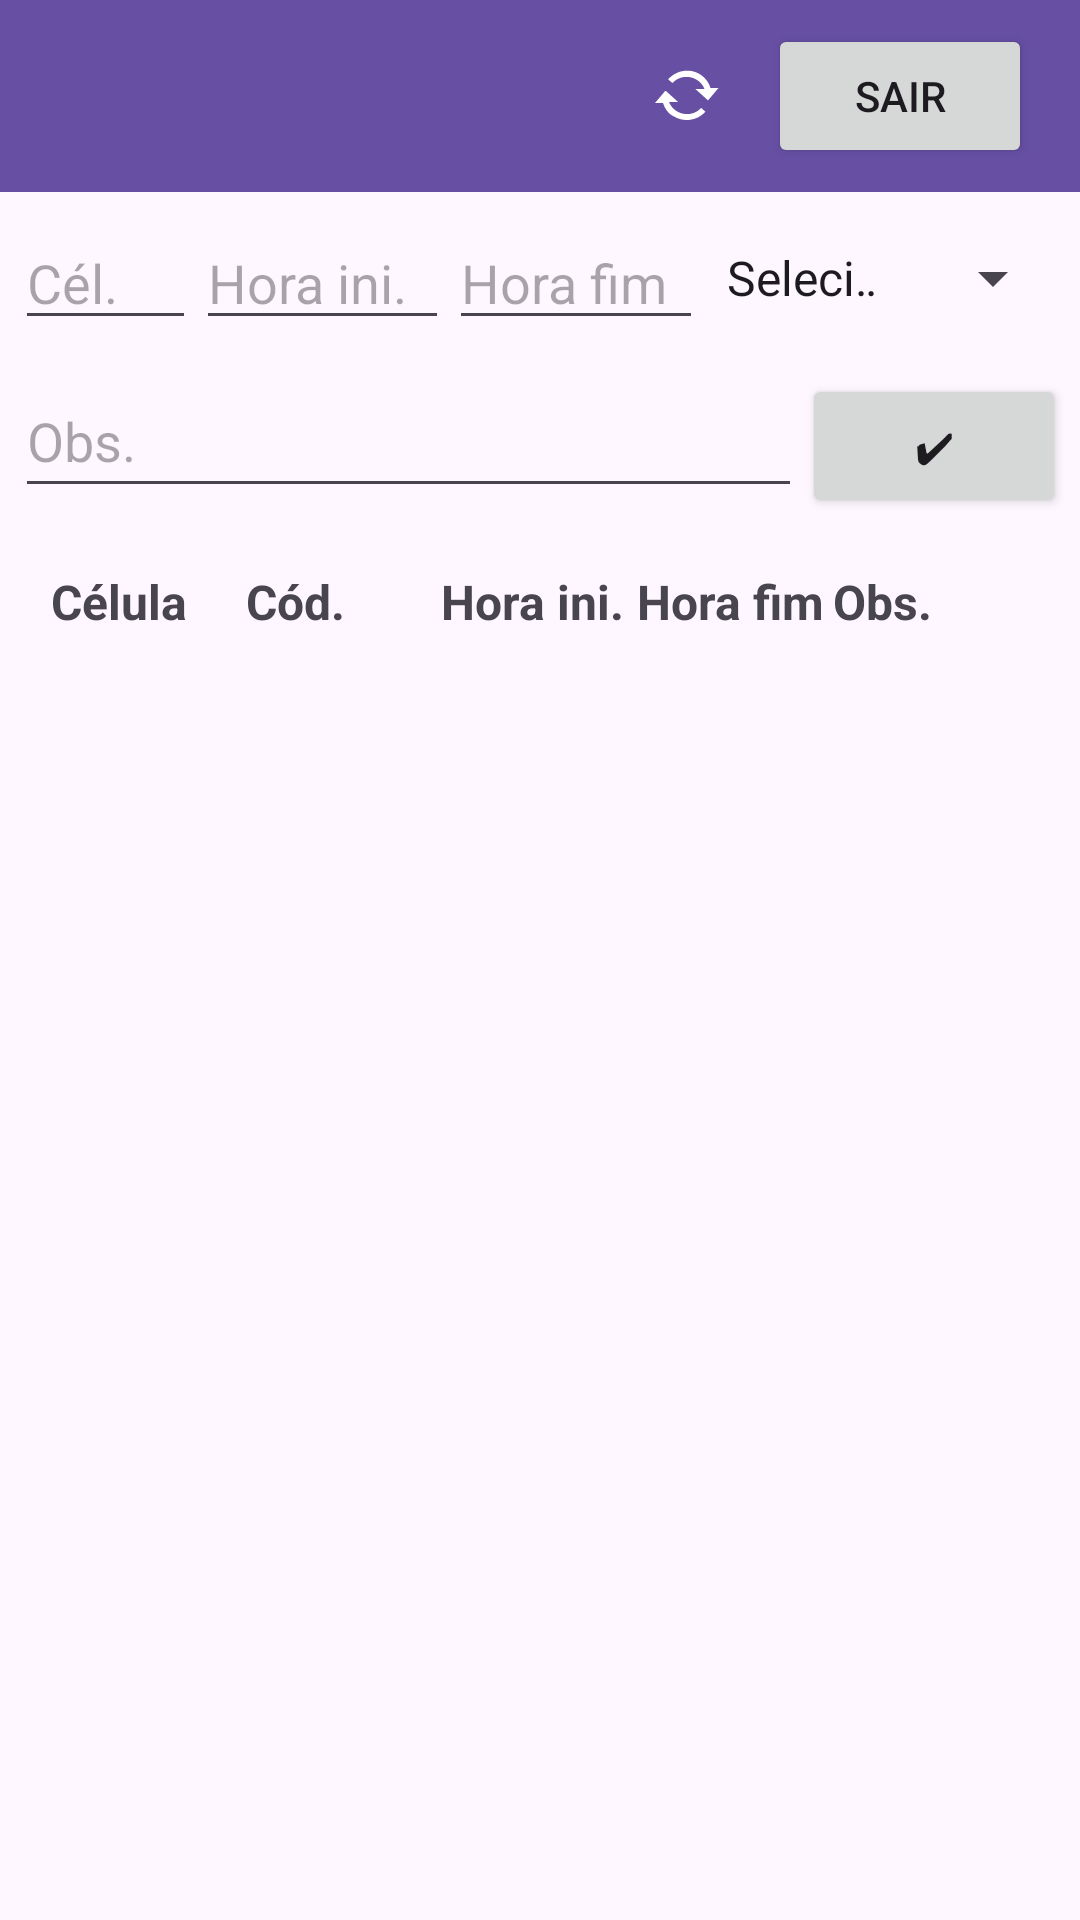

Icon click points for this 1080px x 1920px phone screenshot, format (x,y):
sync: (687,95)
